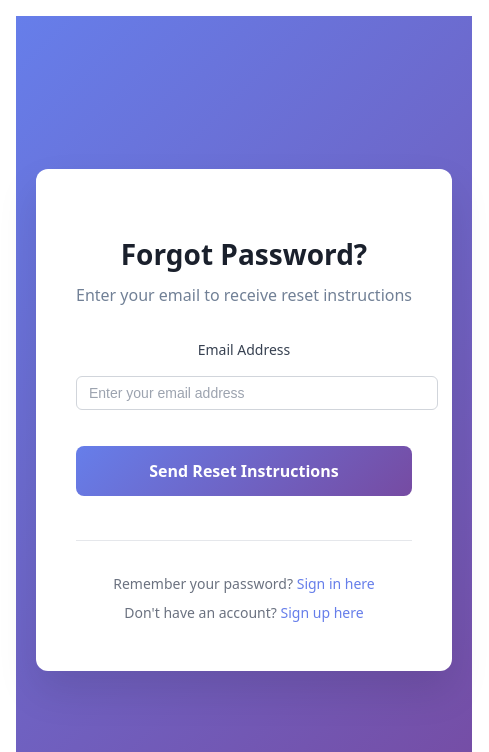
ForgotPasswordForm › shows validation error for empty email field
Click the button "Send Reset Instructions" at (244, 471), box [76,446,412,496]
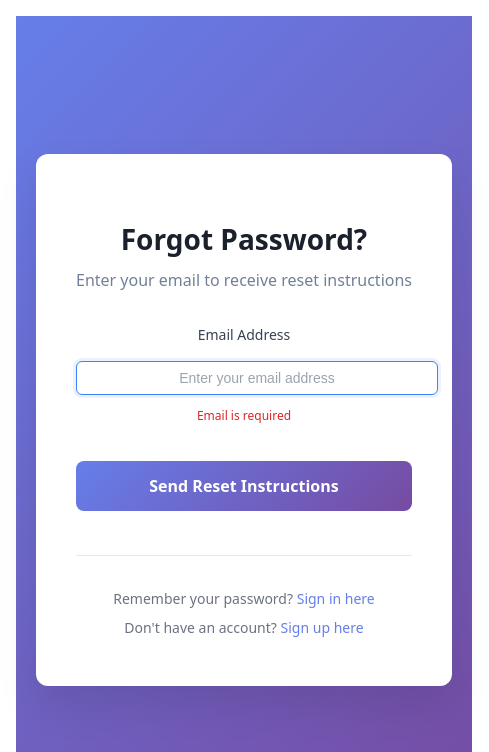
Result: the text "Email is required" is shown at [197,407,291,424]
